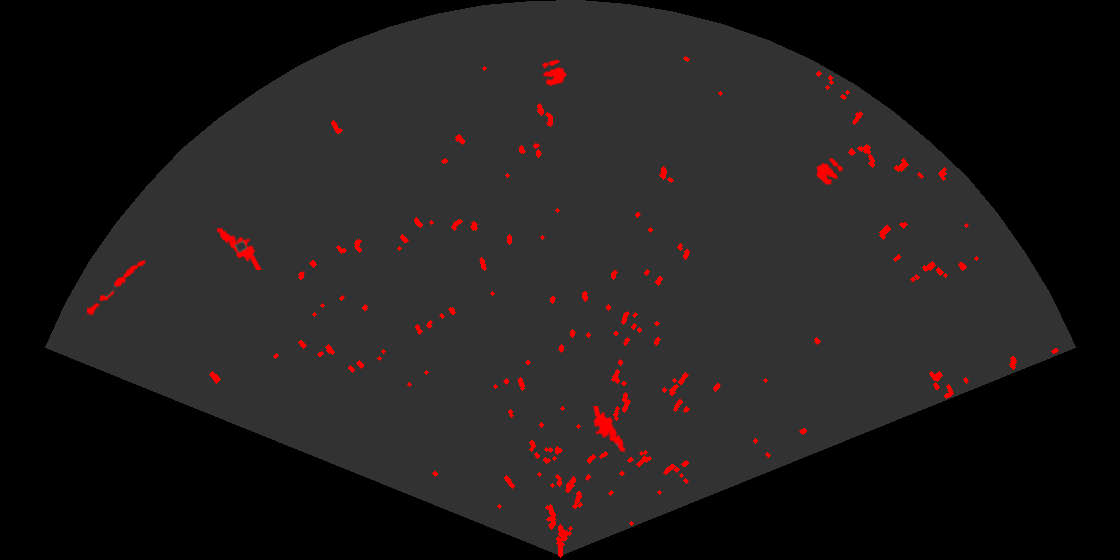ball: (815, 156, 845, 187), (540, 58, 568, 87)
chain: (78, 258, 147, 321)
frogman: (213, 218, 262, 270), (592, 406, 627, 455)
